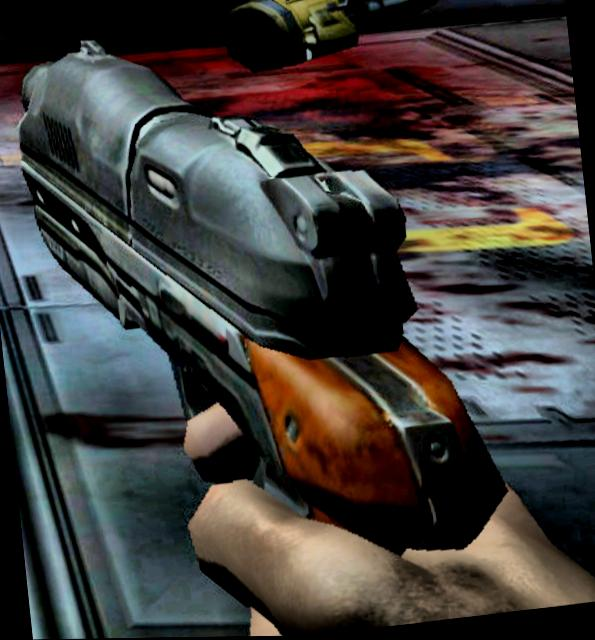pistol: (0, 0, 528, 611)
